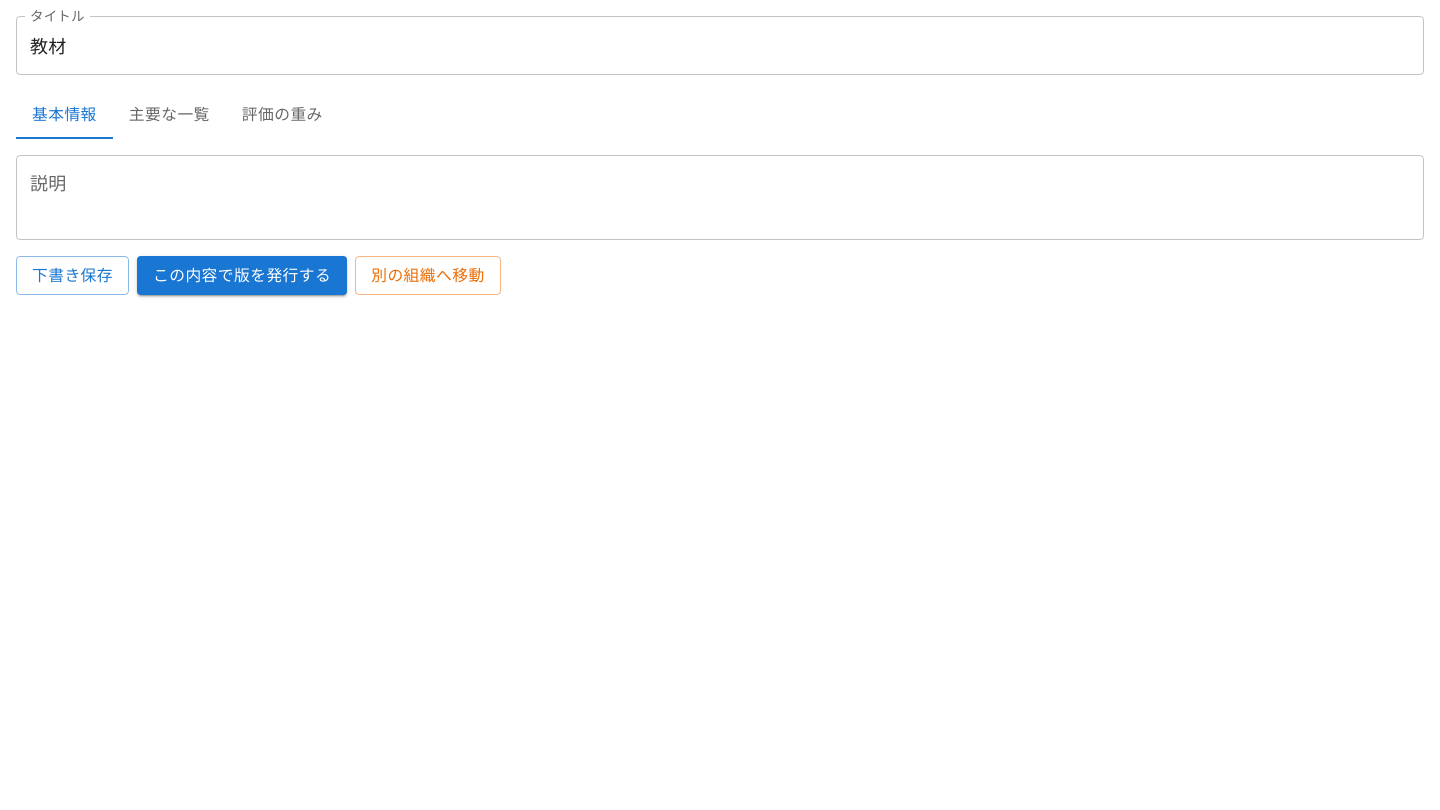
Test: TemplateEditorPage › disables move submission when preview has legacyMaterialCount > 0
Click the button "別の組織へ移動": (428, 276) [355,256,501,296]
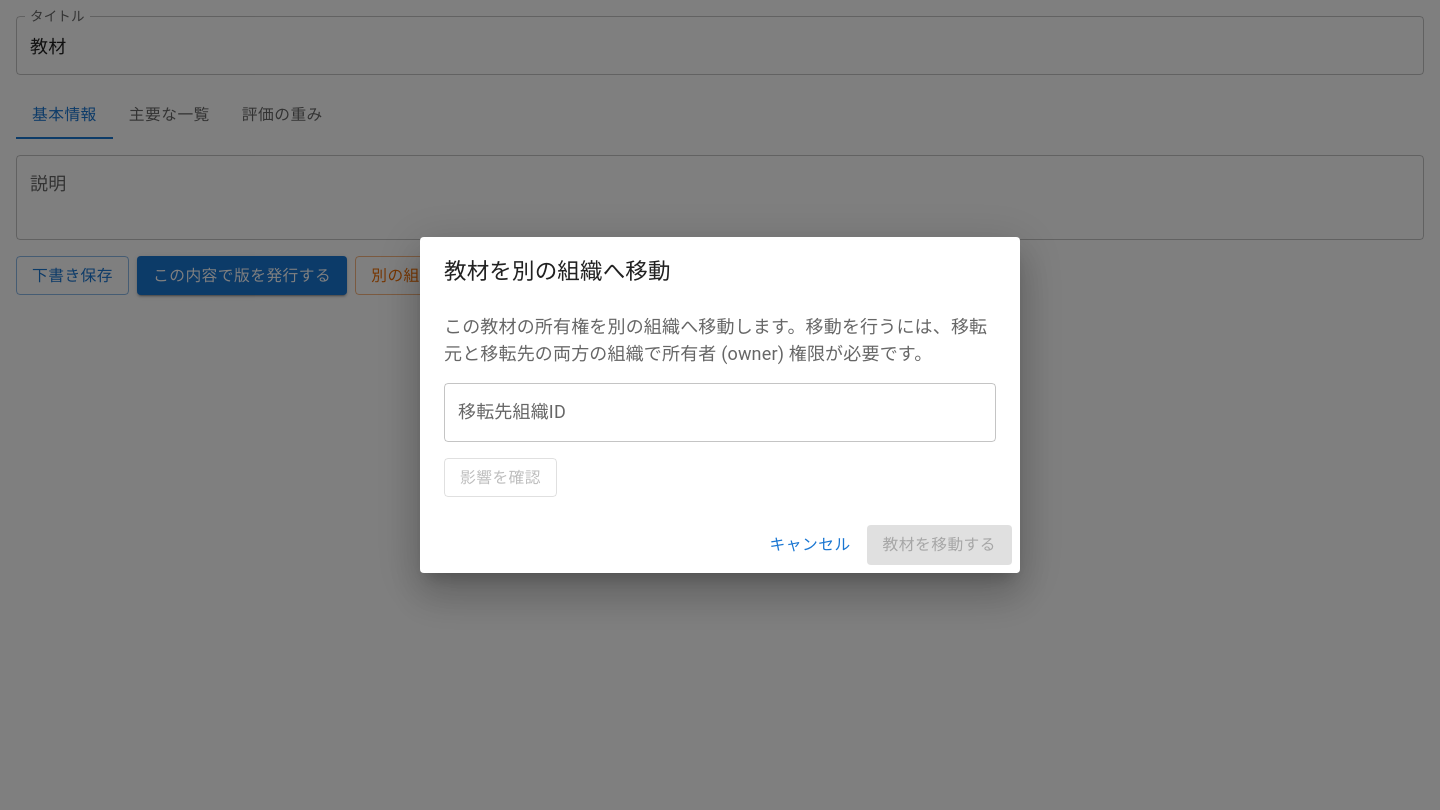
In the field labelled "移転先組織ID": (720, 412) [444,383,996,442], type "org-target-2"
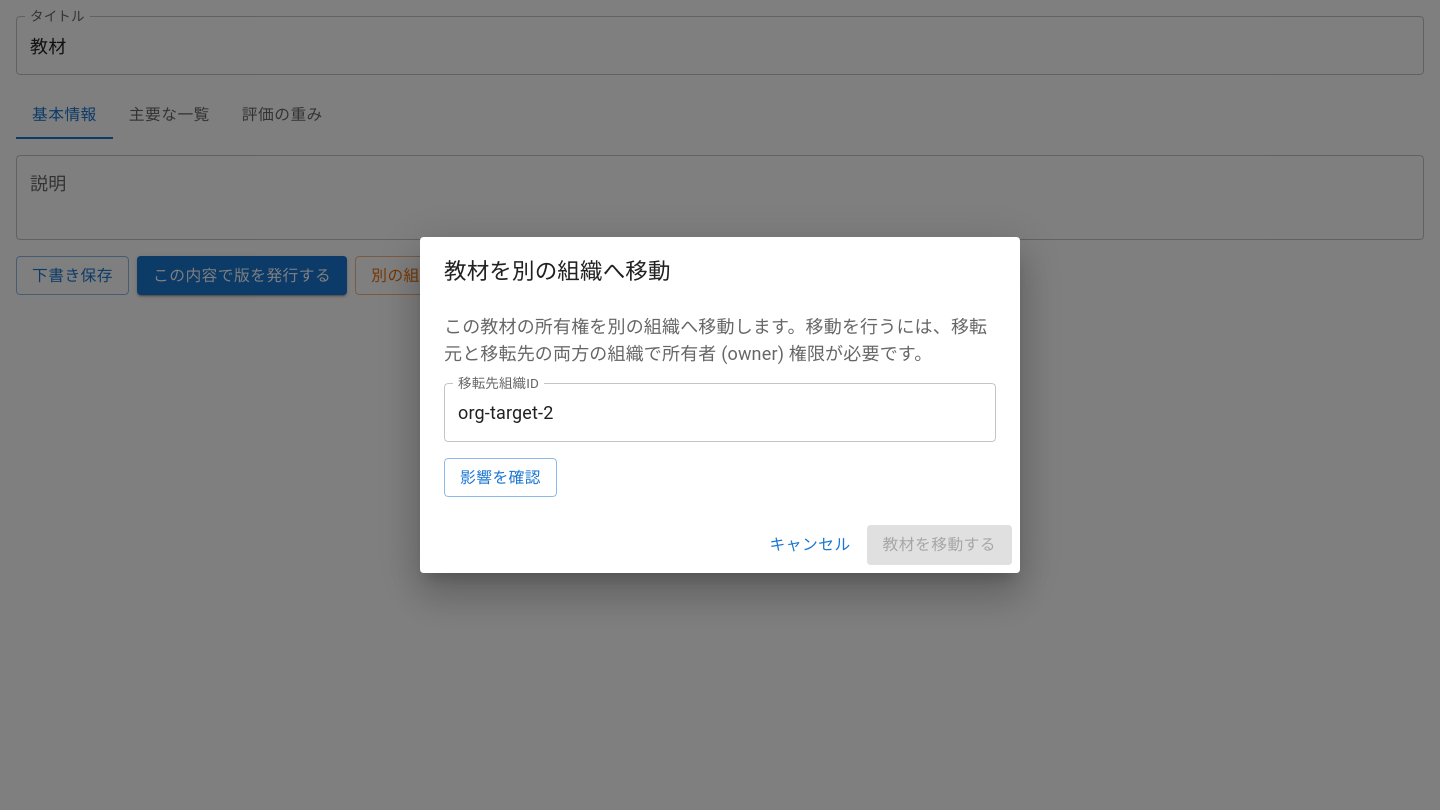
Click the button "影響を確認": (500, 478) [444,458,557,498]
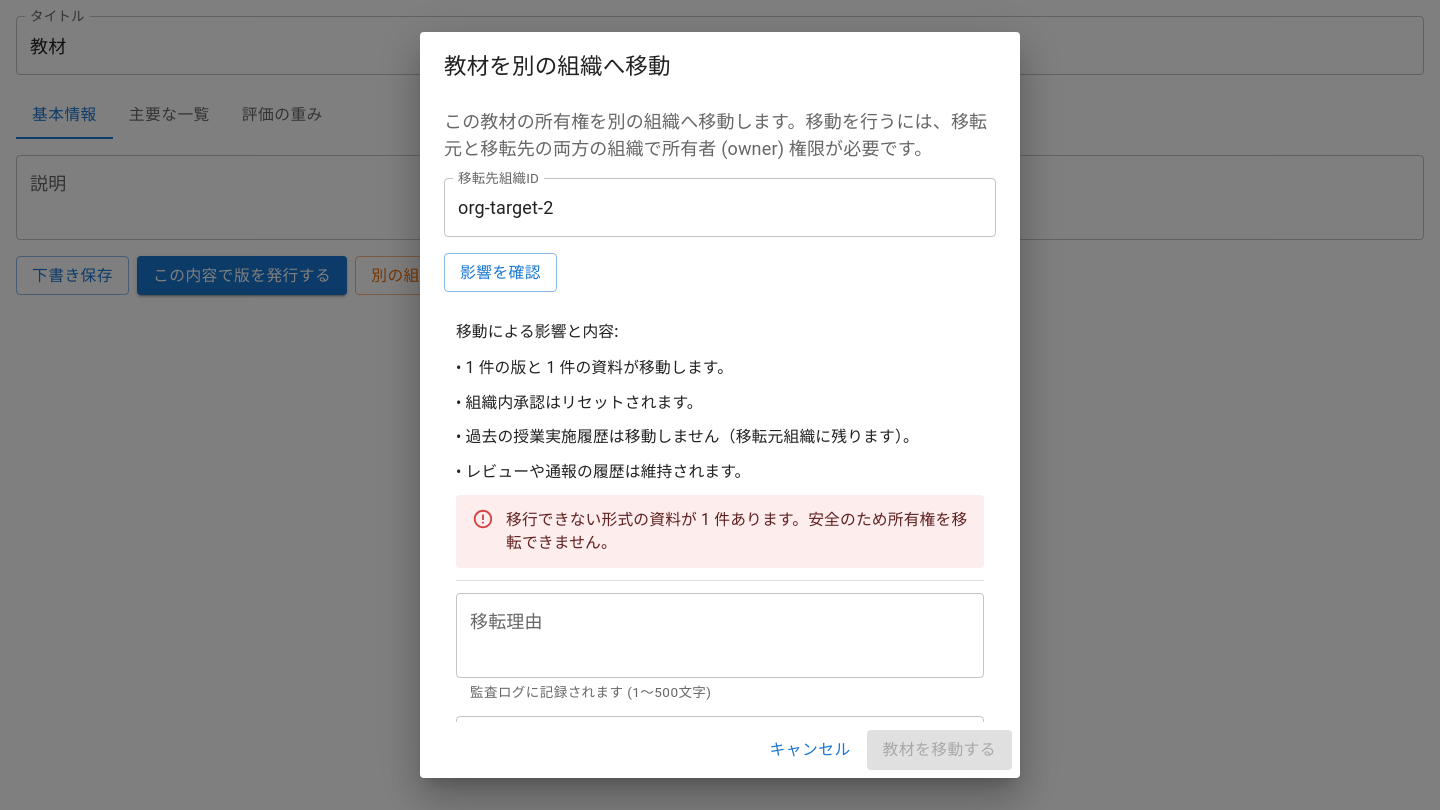
Result: the button "教材を移動する" is disabled at [867,730,1012,770]
Result: the text "移行できない形式の資料が 1 件あります。安全のため所有権を移転できません。" is shown at [506,501,968,562]
